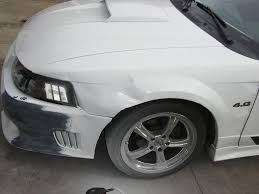Dent: (116, 75, 142, 102)
Scratch: (2, 92, 73, 157)
